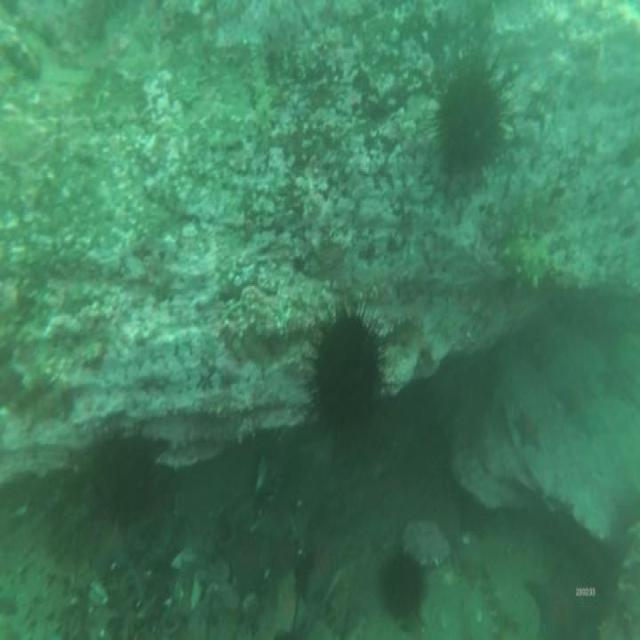echinus: (314, 313, 380, 438), (436, 73, 502, 169), (88, 431, 155, 523), (382, 556, 423, 620)
holothurian: (502, 234, 550, 287), (489, 564, 516, 640)
starfish: (528, 558, 602, 640), (312, 536, 348, 589), (272, 572, 301, 634)
